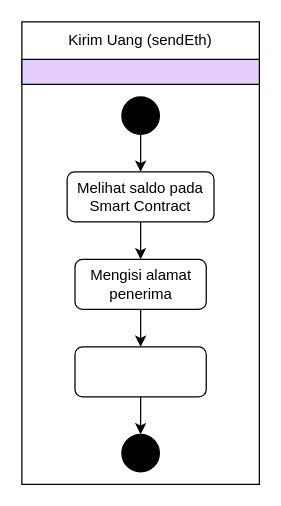
The diagram is 281 pixels wide and 506 high, and some of its shapes have lost their labels. The shapes that lost their labels are listed below. From the top down, each one's centre as x and y in pixels, then its label:
the point at 140,71: User
the point at 140,371: Mengisi jumlah yang akan diikirim
